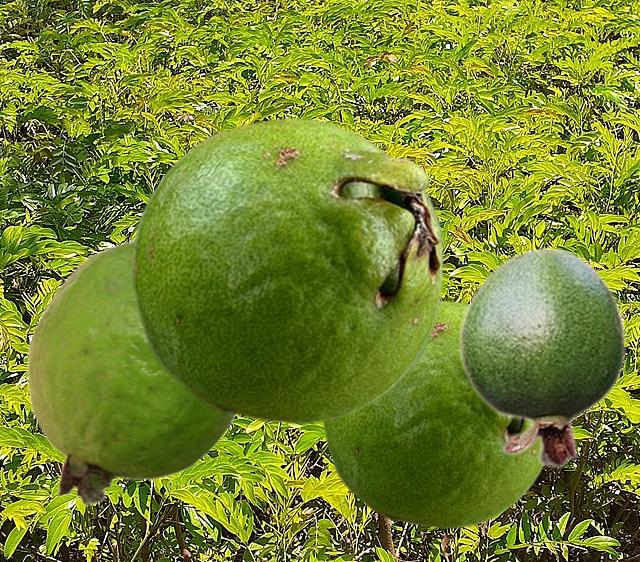guava: (131, 117, 443, 424), (26, 240, 236, 505), (322, 300, 544, 528), (458, 246, 627, 468)
